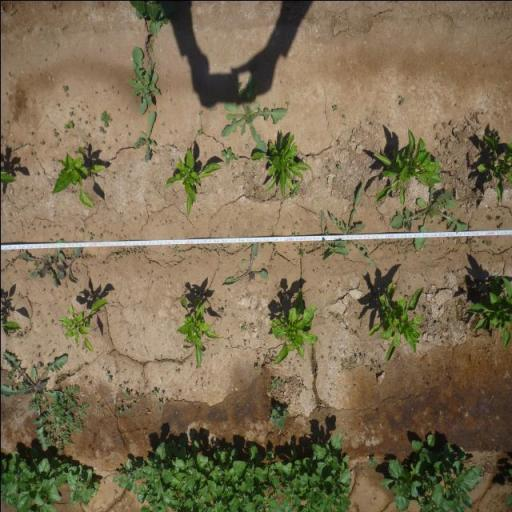plant: (370, 129, 434, 201), (268, 287, 319, 365), (463, 272, 512, 350), (366, 292, 422, 358), (54, 145, 106, 210), (168, 152, 218, 218), (175, 294, 220, 367), (253, 132, 311, 183), (58, 298, 109, 353), (476, 138, 512, 204)
weed: (140, 436, 298, 512), (379, 429, 483, 512), (0, 349, 75, 451), (296, 432, 354, 512), (220, 73, 278, 148), (28, 386, 90, 454), (328, 181, 376, 267), (402, 188, 468, 250), (0, 446, 62, 511), (125, 45, 161, 116), (220, 242, 269, 286), (127, 0, 183, 38), (20, 239, 62, 287), (314, 206, 345, 263), (64, 460, 98, 506), (132, 110, 157, 164), (110, 456, 142, 496), (58, 246, 84, 283), (266, 404, 290, 432), (108, 245, 146, 262), (219, 145, 240, 166), (338, 355, 357, 373), (100, 110, 113, 128), (365, 453, 378, 470), (269, 376, 284, 390), (290, 180, 300, 199), (14, 330, 30, 338), (295, 242, 303, 258), (28, 149, 38, 161), (64, 119, 74, 130), (123, 388, 132, 400), (4, 256, 14, 266), (466, 236, 475, 246), (115, 406, 123, 416), (491, 130, 499, 139), (98, 125, 106, 134), (60, 84, 69, 92), (150, 388, 159, 396), (398, 93, 404, 105), (496, 222, 504, 230), (485, 214, 493, 222), (494, 214, 503, 221), (252, 362, 258, 372), (331, 103, 338, 111), (324, 164, 331, 172), (38, 138, 45, 146), (148, 43, 154, 52), (88, 232, 94, 241), (68, 110, 75, 117), (52, 131, 59, 138), (483, 240, 491, 246), (196, 128, 202, 136), (209, 103, 215, 111), (106, 376, 112, 384), (240, 322, 246, 330), (288, 230, 296, 236), (268, 241, 276, 247), (172, 246, 178, 254), (284, 100, 290, 107), (232, 174, 239, 180), (168, 158, 174, 165), (156, 400, 163, 406), (174, 367, 180, 374), (140, 393, 146, 400), (132, 392, 139, 398), (86, 379, 92, 386), (260, 241, 265, 249), (36, 362, 41, 370), (348, 328, 354, 334), (368, 120, 374, 126), (334, 138, 340, 144), (243, 142, 249, 148), (76, 116, 82, 122), (56, 136, 62, 142), (34, 170, 40, 176), (116, 384, 122, 390), (248, 322, 254, 328), (300, 384, 306, 390), (445, 334, 450, 341), (111, 171, 115, 179), (216, 308, 224, 312), (371, 359, 377, 364), (335, 164, 341, 169), (125, 406, 130, 412), (131, 400, 136, 406), (104, 370, 109, 376), (355, 460, 359, 467), (164, 397, 168, 404), (369, 368, 374, 373), (85, 132, 90, 137), (54, 142, 59, 147), (79, 227, 84, 232), (356, 482, 360, 488), (419, 325, 425, 329), (353, 330, 357, 336), (444, 144, 448, 150), (341, 113, 345, 119), (240, 170, 244, 176), (198, 110, 202, 116), (56, 102, 60, 108), (52, 232, 58, 236), (176, 390, 182, 394), (160, 389, 164, 395), (194, 242, 198, 248), (243, 339, 246, 347), (378, 364, 381, 371), (202, 151, 206, 156), (100, 139, 104, 144), (106, 146, 111, 150), (46, 223, 50, 228), (98, 233, 102, 238), (294, 220, 298, 225), (210, 297, 214, 302), (65, 345, 70, 349), (332, 177, 335, 183), (122, 381, 125, 387), (52, 127, 56, 131), (50, 318, 54, 322), (256, 358, 260, 362), (272, 350, 276, 354), (427, 312, 432, 315), (425, 307, 428, 312), (114, 137, 117, 142), (84, 119, 87, 124), (51, 349, 54, 354), (334, 355, 336, 362), (355, 354, 357, 360), (244, 160, 246, 166), (127, 132, 130, 136), (124, 123, 127, 127), (56, 159, 59, 163), (24, 184, 26, 190), (38, 352, 40, 358), (355, 312, 358, 316), (256, 334, 258, 340), (189, 362, 192, 366), (428, 364, 430, 369), (360, 354, 362, 359), (346, 325, 348, 330), (456, 159, 458, 164), (128, 168, 130, 173), (318, 410, 320, 415), (162, 122, 164, 126), (116, 108, 120, 110), (63, 130, 67, 132), (30, 188, 32, 192), (262, 354, 264, 358), (270, 356, 274, 358), (298, 394, 300, 398), (230, 166, 233, 168), (51, 158, 54, 160)
